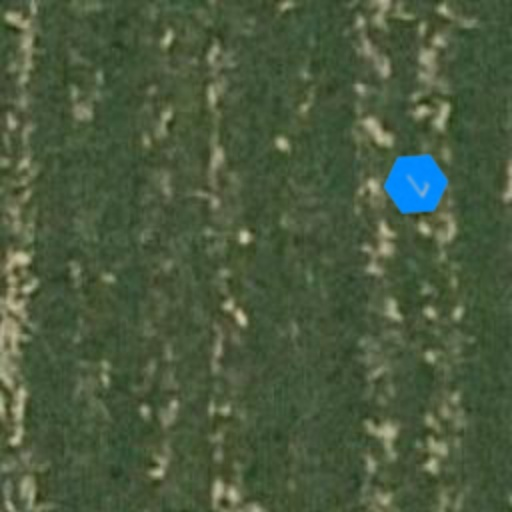hexagon: (372, 140, 460, 228)
